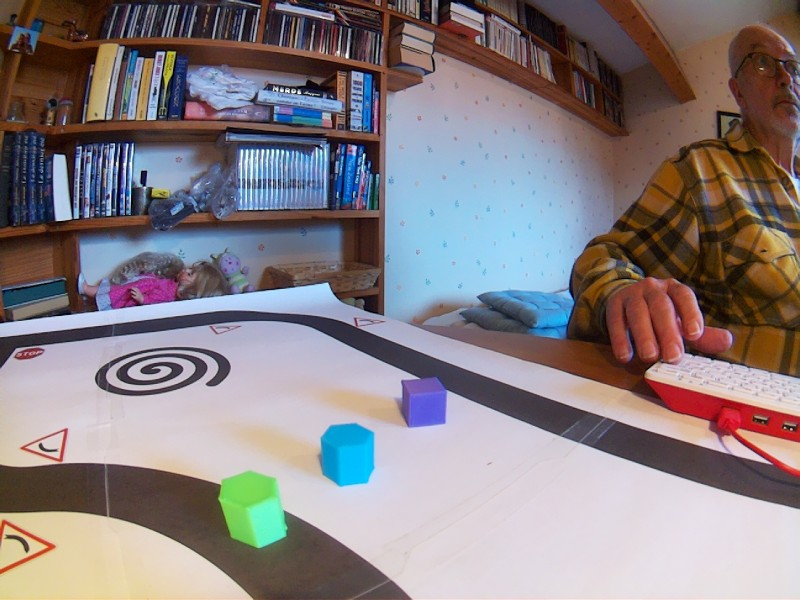cube: (399, 375, 449, 430)
hexagon: (216, 468, 288, 551), (317, 419, 379, 490)
nest: (92, 344, 234, 403)
